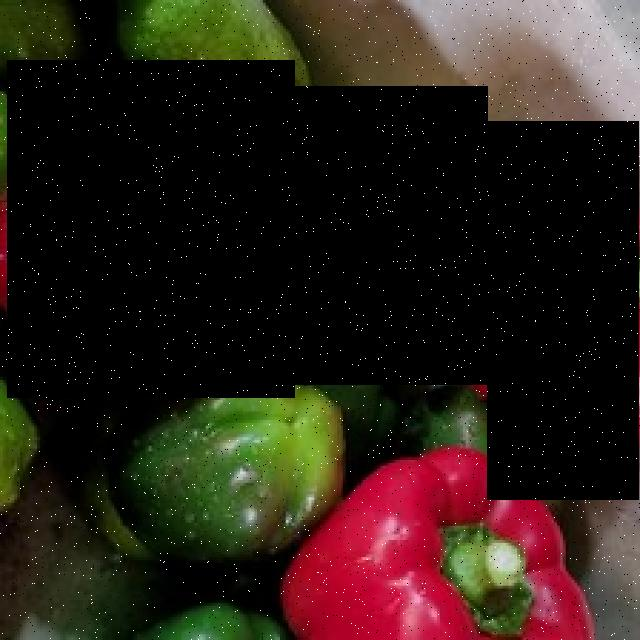Capsicum: (8, 60, 296, 398), (287, 87, 488, 386), (488, 122, 640, 501)
